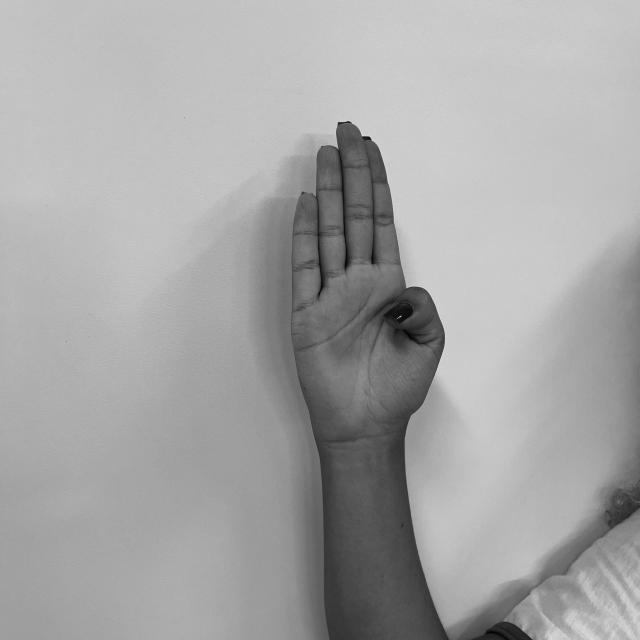Letra B: (283, 108, 450, 434)
